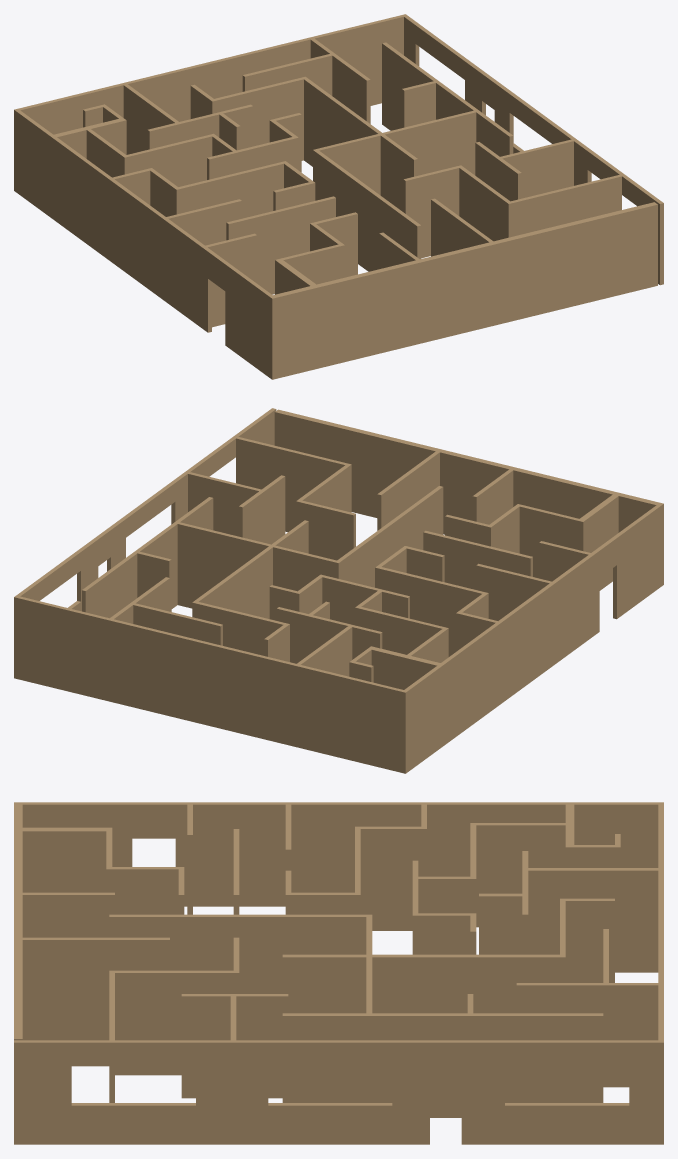
Rendered from ClassRoom With Big Library_Maze_1.fbx.
3 views of the same model, one above another, from view 1: azimuth 30°, elevation 25°; view 2: azimuth 150°, elevation 25°; view 3: azimuth 270°, elevation 25° (orthographic). The views are drawn at different scales.
Parts seen in each view (by area): view 1: ClassRoom With Big Library_Maze_1.001; view 2: ClassRoom With Big Library_Maze_1.001; view 3: ClassRoom With Big Library_Maze_1.001.
Boxes of the visible parts, left/top/right/bottom form: ClassRoom With Big Library_Maze_1.001: left=14, top=14, right=663, bottom=379; ClassRoom With Big Library_Maze_1.001: left=14, top=408, right=663, bottom=773; ClassRoom With Big Library_Maze_1.001: left=14, top=802, right=663, bottom=1144.
Bounding box in the file's own units: 19.7 × 3.9 × 22.5.
Materials: 1 (1 with a texture image).
